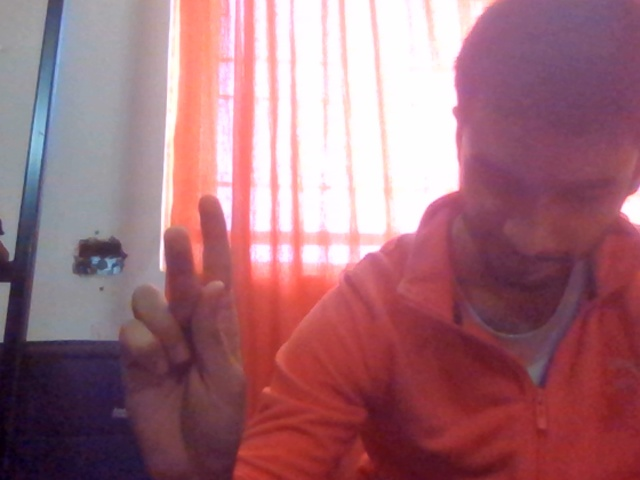K: (78, 169, 302, 480)
